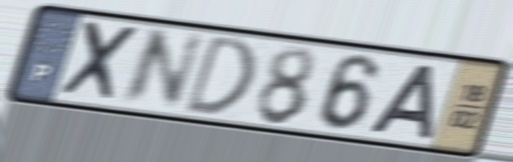6: (316, 52, 384, 135)
8: (251, 43, 323, 127)
A: (364, 61, 440, 143)
D: (180, 32, 259, 117)
N: (115, 27, 209, 110)
X: (55, 19, 143, 106)
